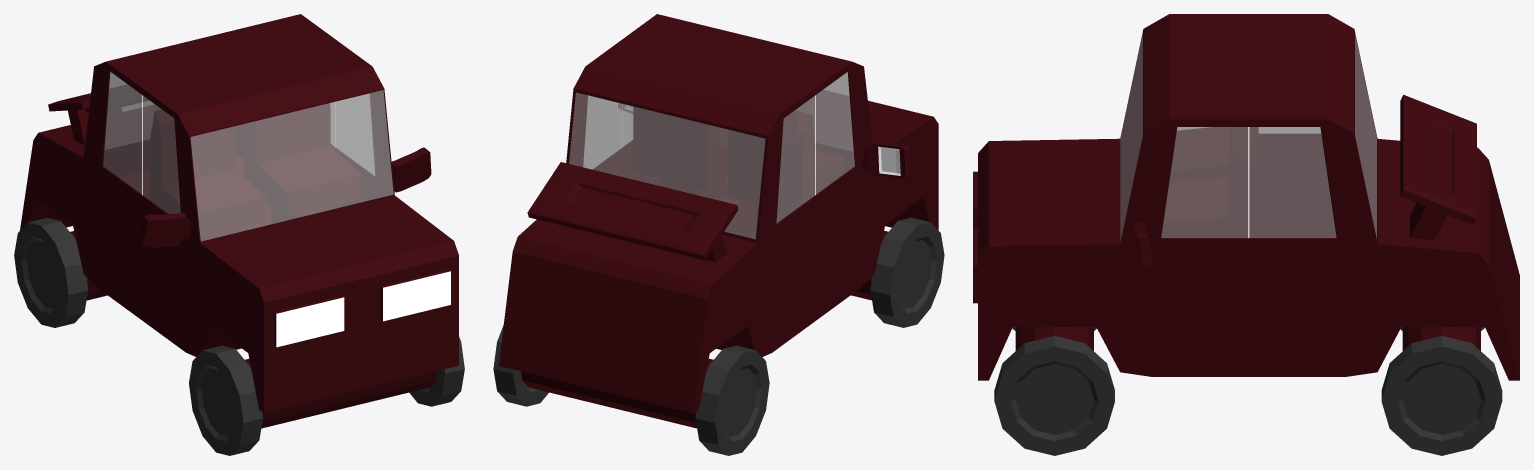
Rendered from cars16.glb.
3 renders of one model, left to right at view 1: azimuth 30°, elevation 25°; view 2: azimuth 150°, elevation 25°; view 3: azimuth 270°, elevation 25°, orthographic. The views are drawn at different scales.
Parts seen in each view (by area): view 1: Car16, Car16Tire1, Car16Tire2; view 2: Car16, Car16Tire2, Car16Tire1; view 3: Car16, Car16Tire2, Car16Tire1.
Boxes of the visible parts, x1=… form: Car16: x1=20, y1=14, x2=458, y2=412; Car16Tire1: x1=189, y1=336, x2=464, y2=455; Car16Tire2: x1=14, y1=217, x2=107, y2=327; Car16: x1=498, y1=14, x2=938, y2=413; Car16Tire2: x1=493, y1=325, x2=769, y2=455; Car16Tire1: x1=851, y1=217, x2=944, y2=327; Car16: x1=973, y1=14, x2=1519, y2=380; Car16Tire2: x1=1381, y1=327, x2=1502, y2=455; Car16Tire1: x1=994, y1=327, x2=1114, y2=455.
Bounding box in the file's own units: 1.38 × 1.35 × 2.03.
